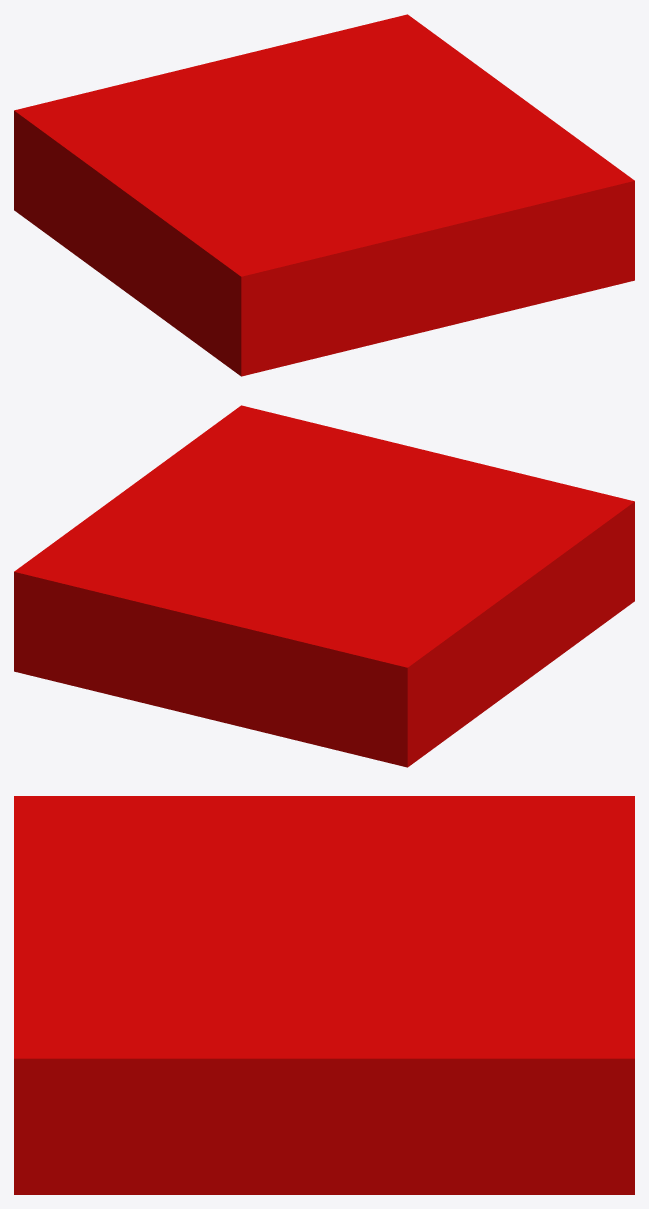
The picture shows the model from 3 angles, top to bottom: view 1: azimuth 30°, elevation 25°; view 2: azimuth 150°, elevation 25°; view 3: azimuth 270°, elevation 25°; orthographic projection. The views are drawn at different scales.
Parts seen in each view (by area): view 1: Cube; view 2: Cube; view 3: Cube.
Part boxes in pixels (x1,y1,x2,y2): Cube: (14, 14, 634, 376); Cube: (14, 405, 634, 767); Cube: (14, 796, 634, 1194).
Bounding box in the file's own units: 5.16 × 1.25 × 5.16.
